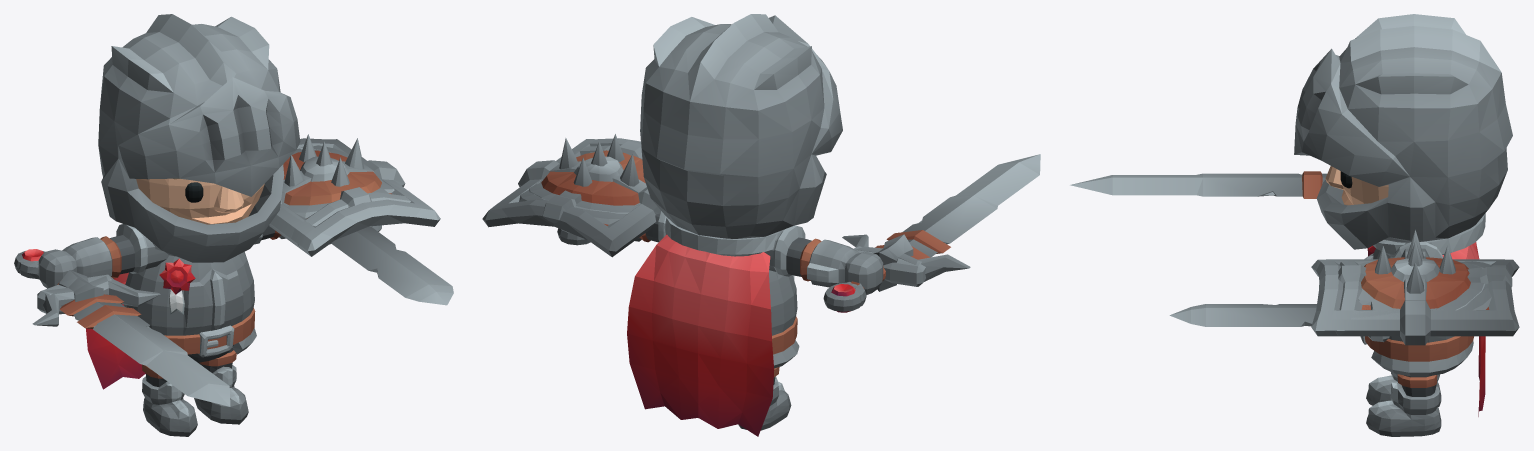
The model's file is rabbit.glb.
3 views of the same model, side by side, from view 1: azimuth 30°, elevation 25°; view 2: azimuth 150°, elevation 25°; view 3: azimuth 270°, elevation 25° (orthographic).
Visible parts, largest first — view 1: geometry_0; view 2: geometry_0; view 3: geometry_0.
Boxes of the visible parts, bbox=[...] form: geometry_0: bbox=[14, 14, 453, 436]; geometry_0: bbox=[482, 14, 1040, 436]; geometry_0: bbox=[1070, 14, 1519, 436].
Bounding box in the file's own units: 2.69 × 2.47 × 2.58.
Materials: 1 (1 with a texture image).
